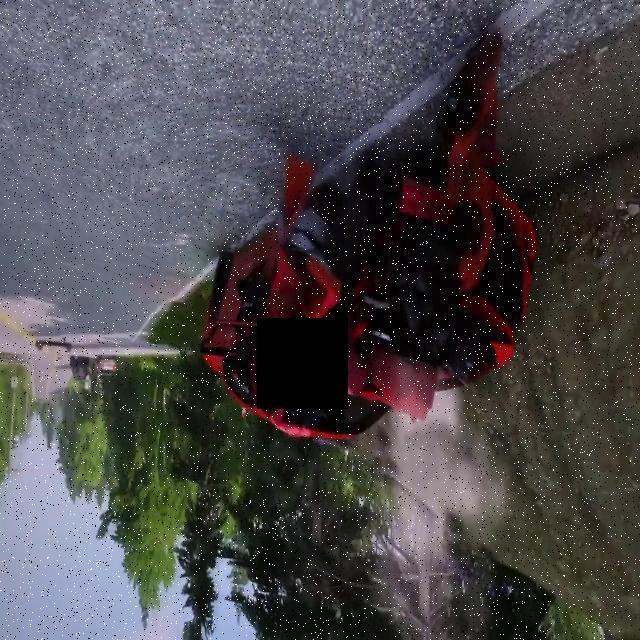vehicle: (192, 34, 570, 482)
